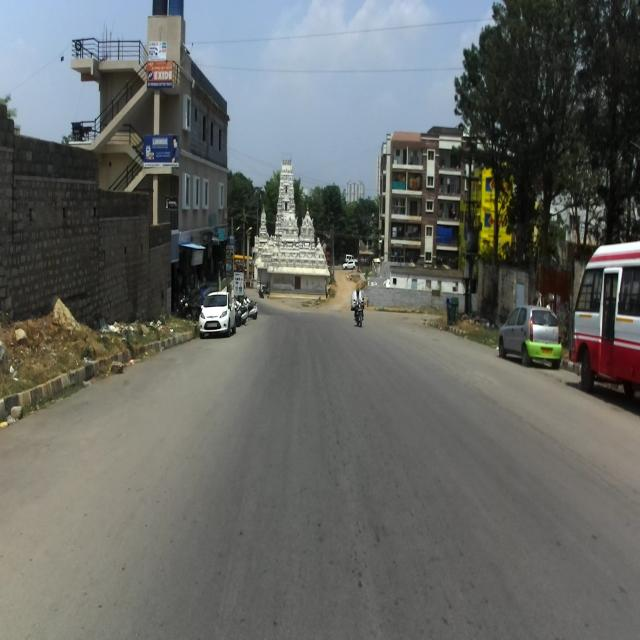Car: (196, 288, 241, 340)
Car_TATA: (498, 304, 562, 368)
mini-bus: (568, 237, 640, 416)
motorcycle_Hero: (354, 294, 365, 328)
